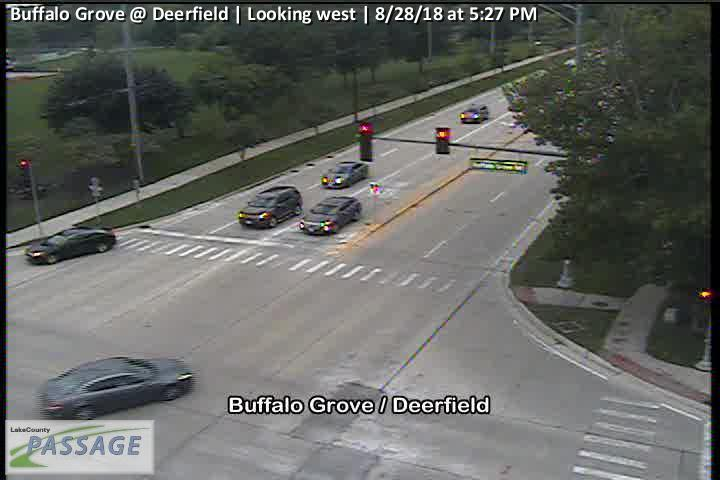SUV: (239, 184, 302, 229)
Sedan: (38, 353, 193, 421), (26, 226, 118, 264), (299, 195, 361, 236), (321, 160, 368, 187), (459, 103, 491, 122)
